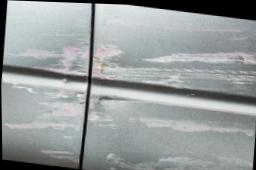Door: (10, 0, 256, 170)
